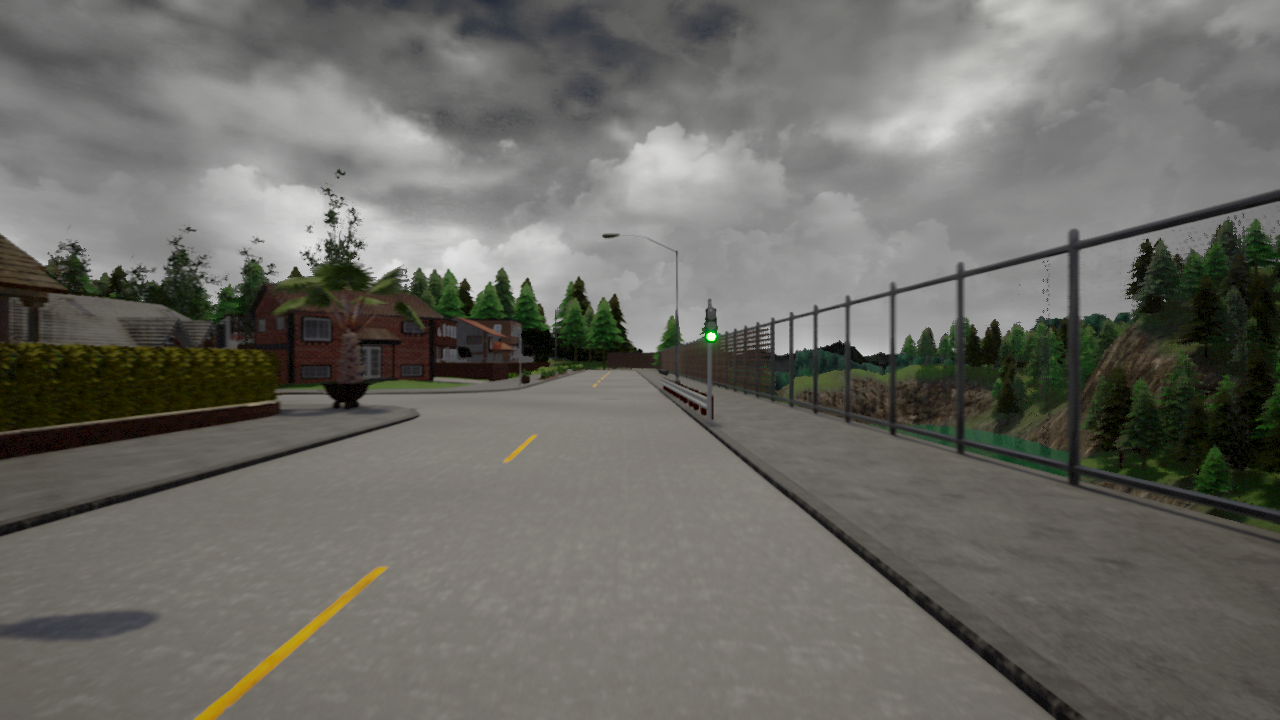green: (703, 306, 718, 341)
